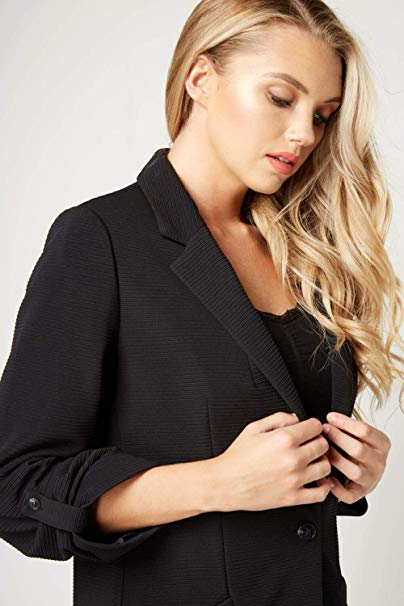F_W_suit jacket: (2, 154, 378, 596)
